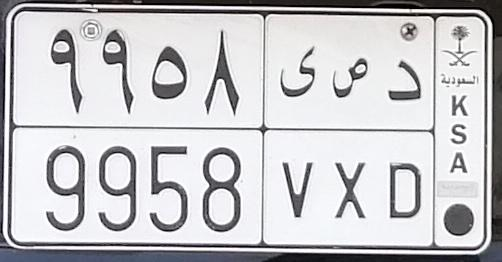5: (149, 44, 192, 233)
8: (201, 28, 242, 234)
9: (95, 27, 139, 232), (45, 26, 88, 232)
D: (385, 59, 422, 219)
V: (279, 44, 317, 221)
X: (331, 56, 370, 219)
